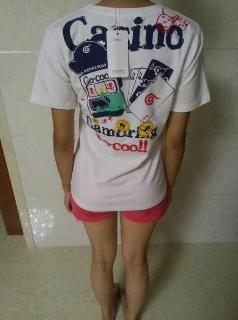short sleeve top: (30, 4, 211, 212)
shorts: (71, 167, 168, 223)
